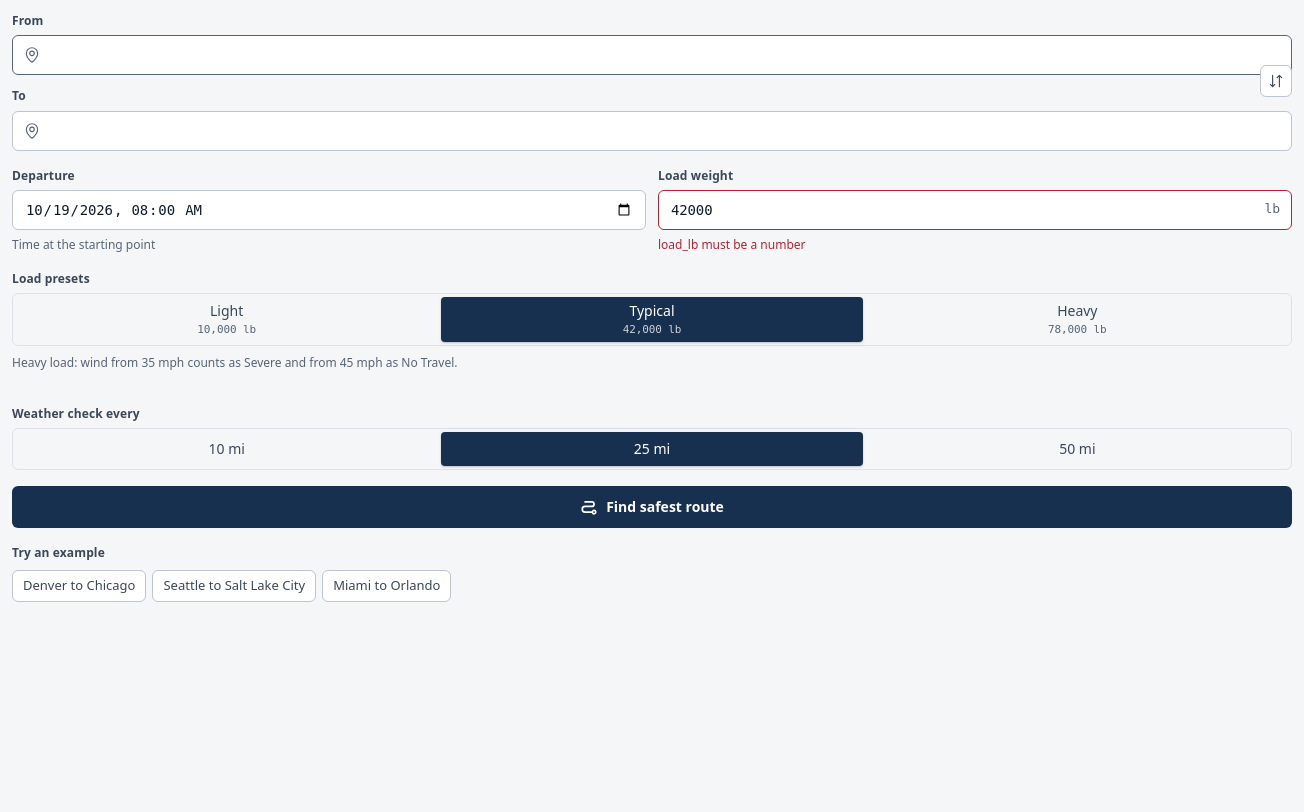
Test case: TripForm › clears a server message as soon as the user edits that field
Check: the message shows "load_lb", box [658,236,806,253]
Type "0" into the number field labelled "Load weight" at (975, 210), box [658,190,1292,230]
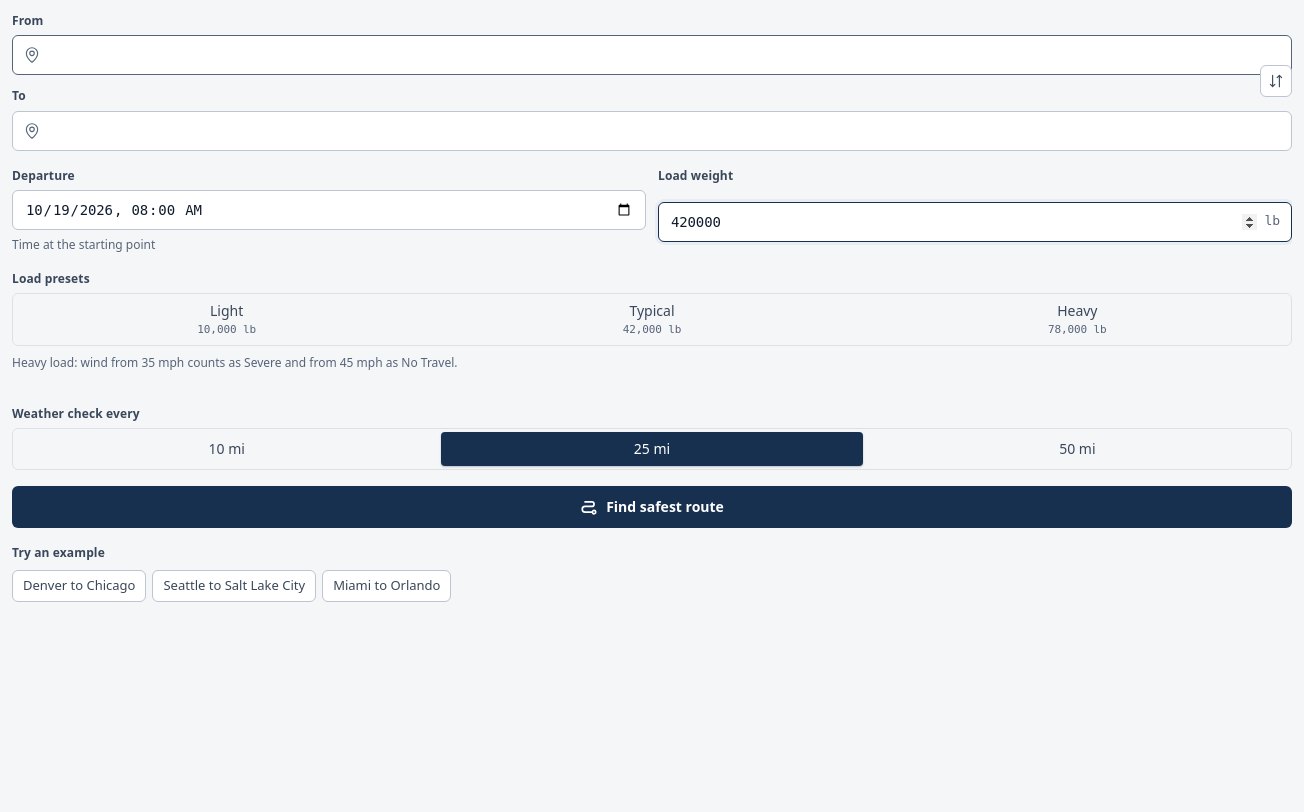
Check: the message "load_lb must be a number" is gone
